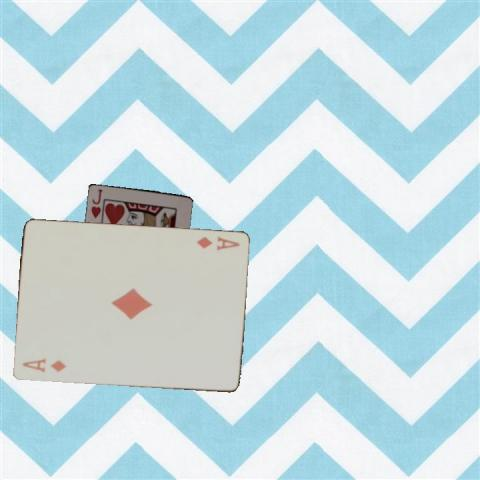Ad: (19, 355, 67, 375), (193, 234, 241, 252)
Jh: (88, 186, 103, 220)
